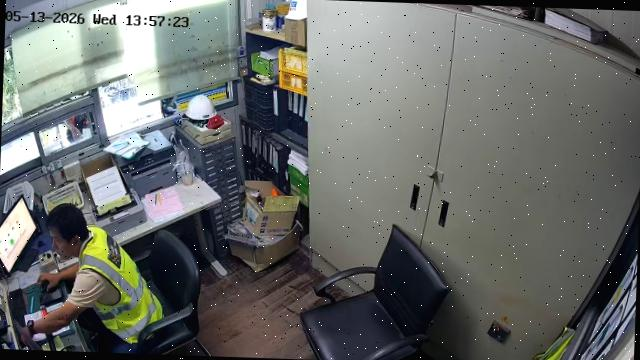Head: (48, 205, 88, 258)
People: (25, 204, 163, 352)
Phone: (38, 288, 64, 306)
